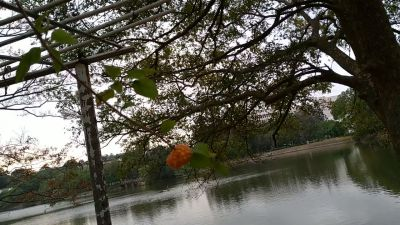eggs: (165, 141, 193, 170)
